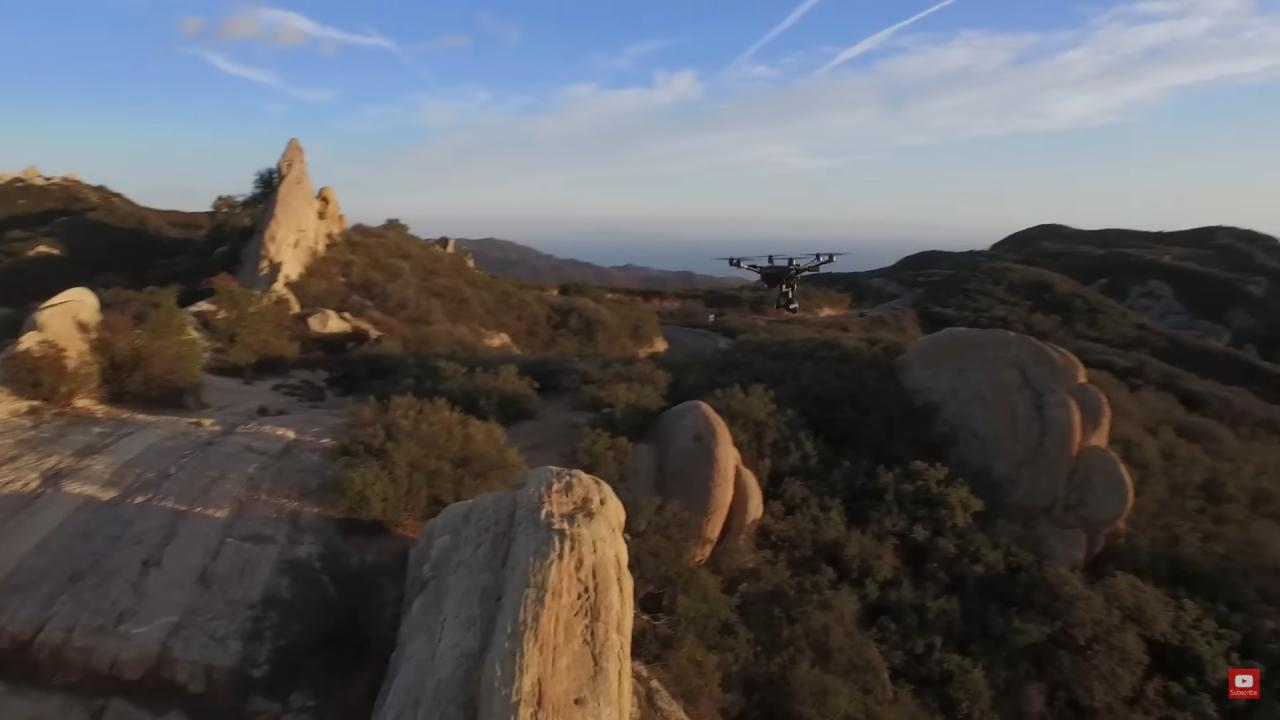Drone: (705, 240, 862, 324)
